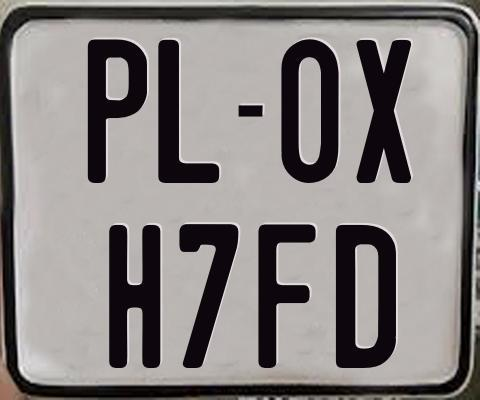0: (278, 38, 336, 186)
7: (178, 222, 239, 370)
D: (334, 223, 397, 368)
F: (258, 224, 316, 372)
H: (108, 225, 159, 371)
L: (157, 37, 224, 181)
P: (87, 39, 147, 186)
X: (356, 39, 413, 188)
